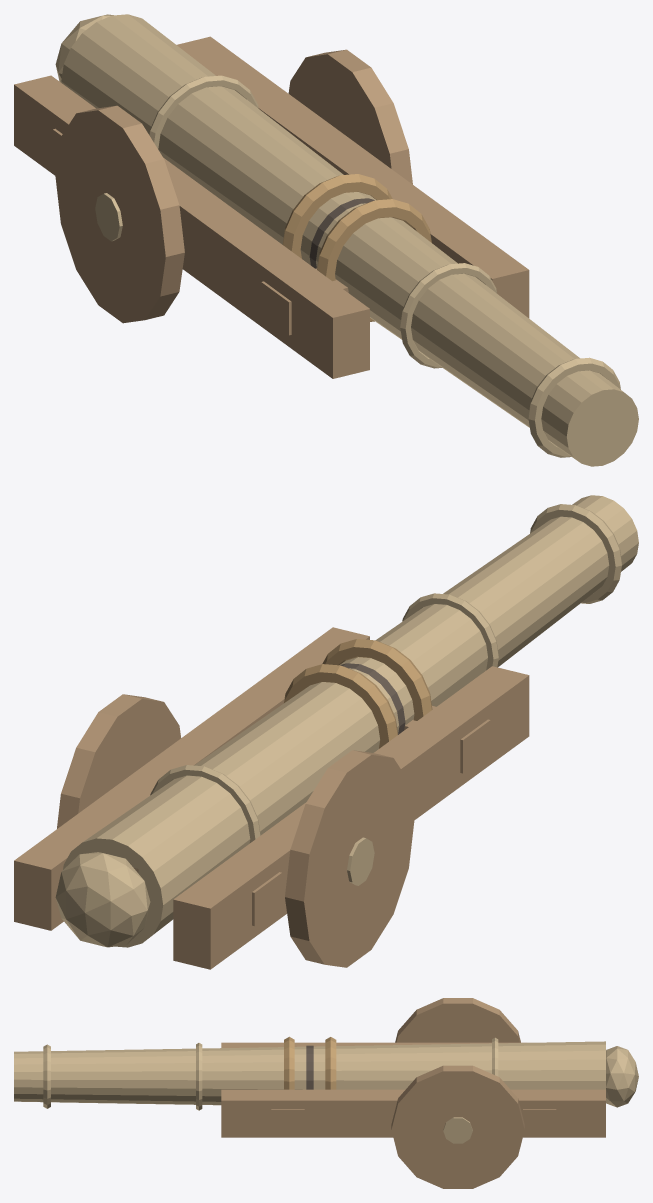
Rendered from cannon.glb.
3 renders of one model, top to bottom at view 1: azimuth 30°, elevation 25°; view 2: azimuth 150°, elevation 25°; view 3: azimuth 270°, elevation 25°, orthographic. The views are drawn at different scales.
Parts seen in each view (by area): view 1: Barrel, Carriage, WheelR, WheelL; view 2: Barrel, Carriage, WheelR, WheelL; view 3: Barrel, Carriage, WheelL, WheelR.
Boxes of the visible parts, left/top/right/bottom form: Barrel: left=55, top=14, right=638, bottom=466; Carriage: left=14, top=36, right=529, bottom=378; WheelR: left=55, top=105, right=184, bottom=323; WheelL: left=288, top=49, right=412, bottom=184; Barrel: left=55, top=495, right=638, bottom=947; Carriage: left=14, top=627, right=529, bottom=969; WheelR: left=285, top=750, right=414, bottom=967; WheelL: left=57, top=694, right=180, bottom=828; Barrel: left=14, top=1036, right=638, bottom=1110; Carriage: left=221, top=1042, right=605, bottom=1137; WheelL: left=391, top=1065, right=524, bottom=1188; WheelR: left=395, top=998, right=520, bottom=1042.
Bounding box in the file's own units: 2.4 × 1.75 × 8.44.
